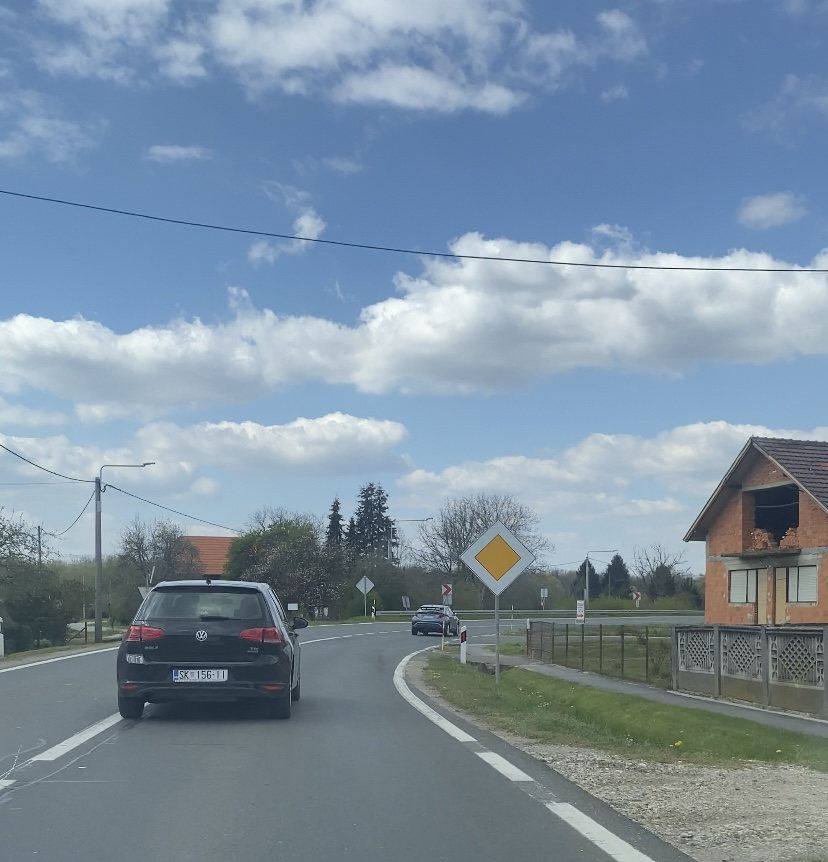Cesta s prednošću prolaska: (458, 519, 537, 597)
